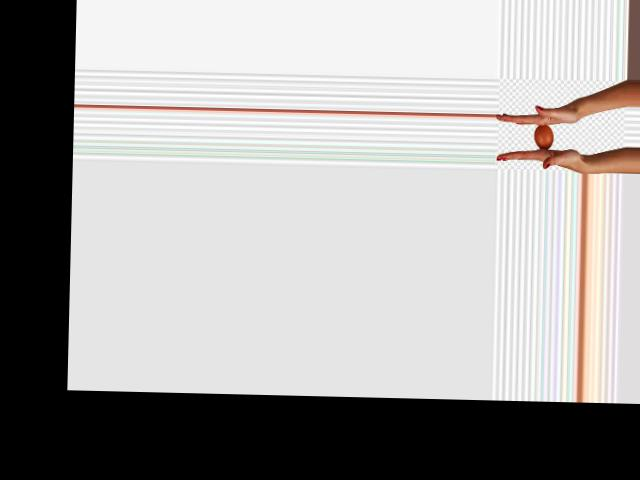egg: (534, 124, 554, 148)
